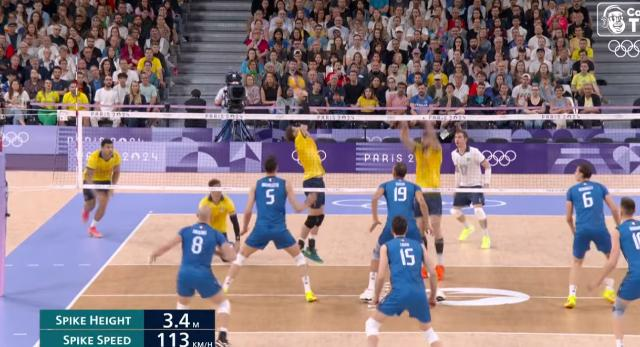Levantador: (564, 164, 614, 270), (288, 115, 324, 249)
Libero: (448, 130, 496, 248)
bola: (288, 74, 306, 88)
